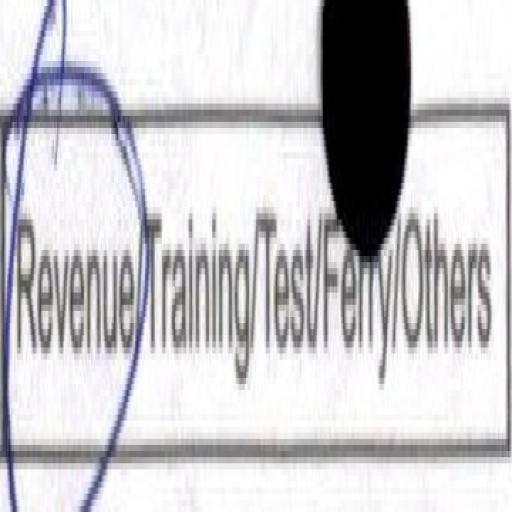check: (0, 0, 137, 506)
